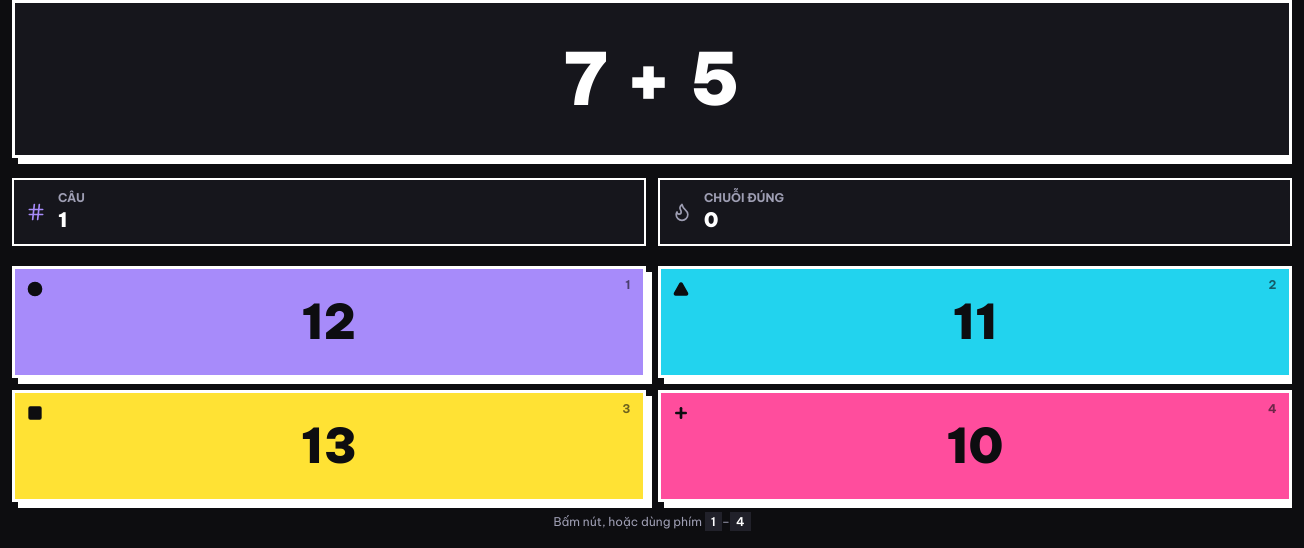
Scenario: MathGame › sang câu tiếp theo bằng dữ liệu server trả về, không hỏi lại
Expected: the text "7 + 5" is shown, [564,33,740,124]
Click the button "1 12". click: (329, 322)
box: [12,266,646,378]
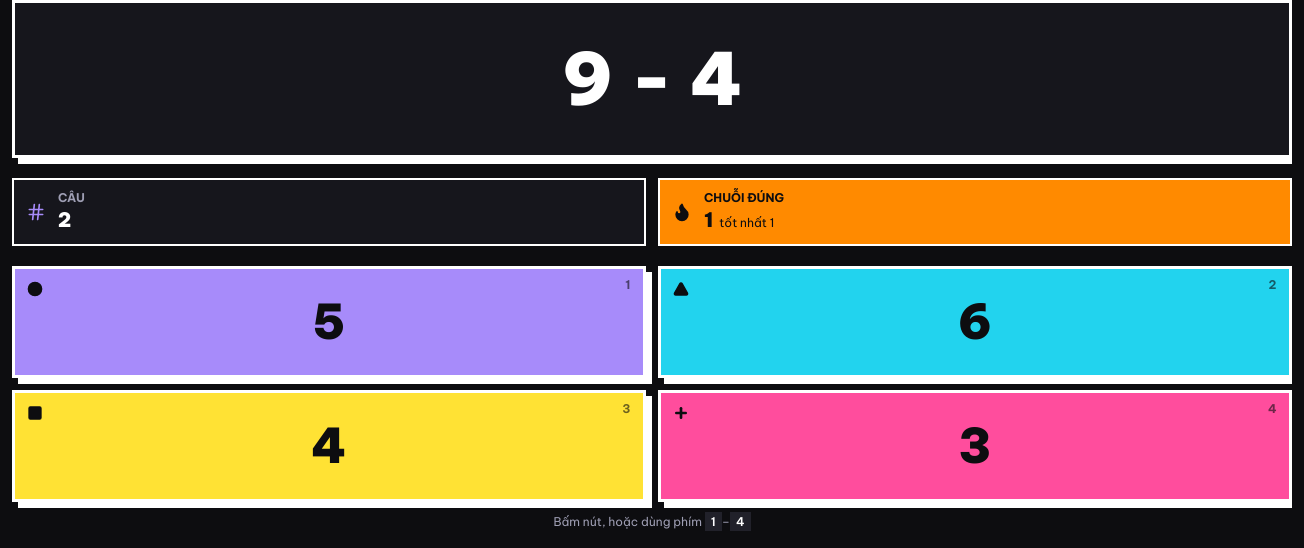
Expected: the text "9 - 4" is shown, [562,33,742,124]
